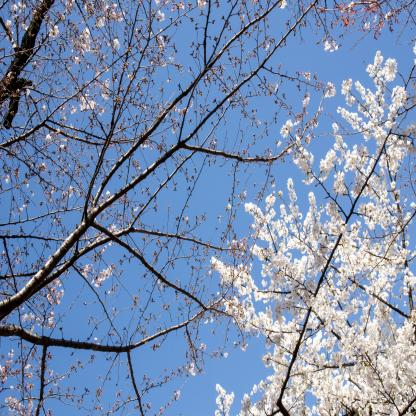OshimaSakura: (210, 38, 416, 416)
